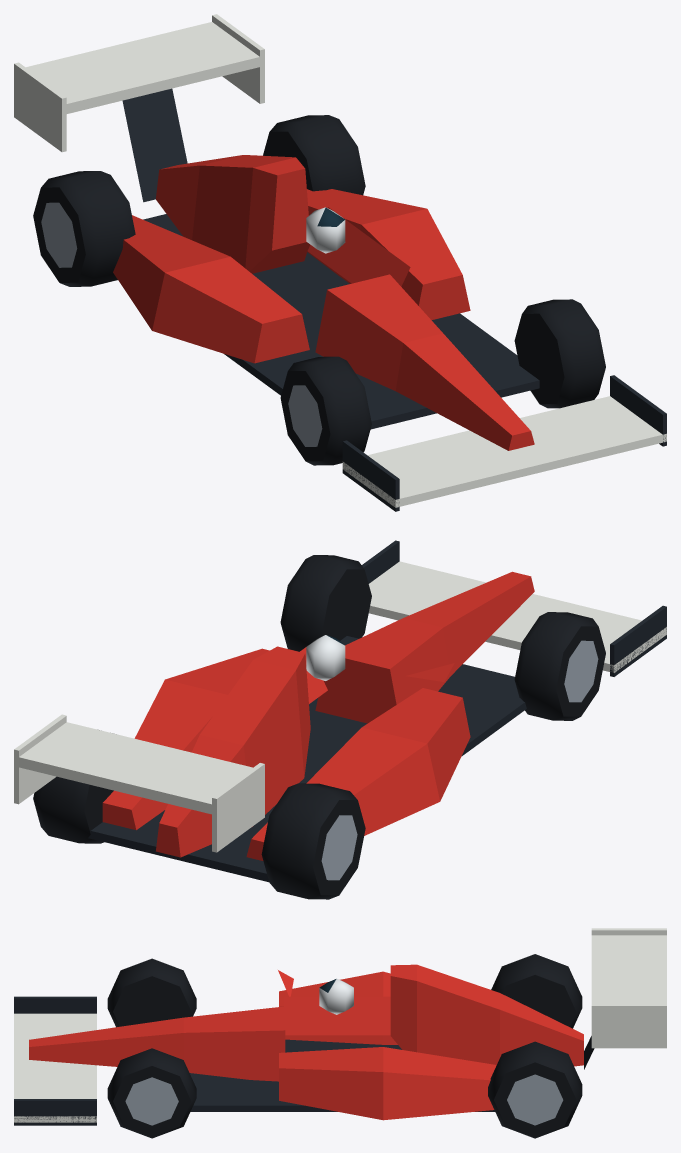
The model's file is formula-lod2.glb.
The picture shows the model from 3 angles, top to bottom: view 1: azimuth 30°, elevation 25°; view 2: azimuth 150°, elevation 25°; view 3: azimuth 270°, elevation 25°; orthographic projection. The views are drawn at different scales.
Parts seen in each view (by area): view 1: chassis, wing_front, wing_rear, engine, wheel_rr, wheel_fl, wheel_fr, wheel_rl, helmet; view 2: chassis, wing_rear, engine, wing_front, wheel_rr, wheel_fr, wheel_fl, wheel_rl, helmet; view 3: chassis, engine, wing_rear, wing_front, wheel_rl, wheel_fl, wheel_fr, wheel_rr, helmet.
Part boxes in pixels (box(x1,y1,x2,y2)): chassis: box(113, 88, 539, 450); wing_front: box(342, 375, 666, 511); wing_rear: box(14, 14, 264, 152); engine: box(156, 155, 309, 273); wheel_rr: box(33, 171, 135, 286); wheel_fl: box(514, 299, 605, 408); wheel_fr: box(280, 356, 371, 465); wheel_rl: box(263, 115, 365, 195); helmet: box(306, 207, 345, 253); chassis: box(88, 571, 534, 882); wing_rear: box(14, 714, 264, 852); engine: box(156, 646, 310, 857); wing_front: box(361, 540, 666, 676); wheel_rr: box(261, 783, 365, 899); wheel_fr: box(514, 612, 605, 720); wheel_fl: box(280, 555, 371, 651); wheel_rl: box(33, 776, 113, 843); helmet: box(306, 635, 345, 680); chassis: box(29, 971, 594, 1120); engine: box(390, 964, 583, 1066); wing_rear: box(591, 928, 666, 1048); wing_front: box(14, 996, 96, 1125); wheel_rl: box(488, 1041, 582, 1138); wheel_fl: box(107, 1048, 196, 1138); wheel_fr: box(107, 958, 196, 1027); wheel_rr: box(491, 954, 582, 1028); helmet: box(319, 978, 353, 1014).
Size of the model in its own units: 2.08 by 1.07 by 5.2.
